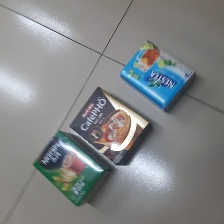CF pho: (69, 87, 153, 166)
Nes Rang: (33, 130, 112, 208)
Nestea: (121, 39, 197, 111)
